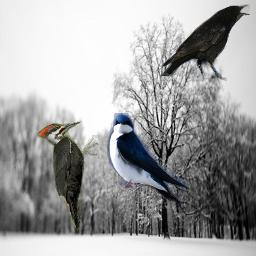Crow: (159, 3, 251, 82)
Swallow: (107, 113, 189, 203)
Woodpecker: (37, 121, 99, 230)
